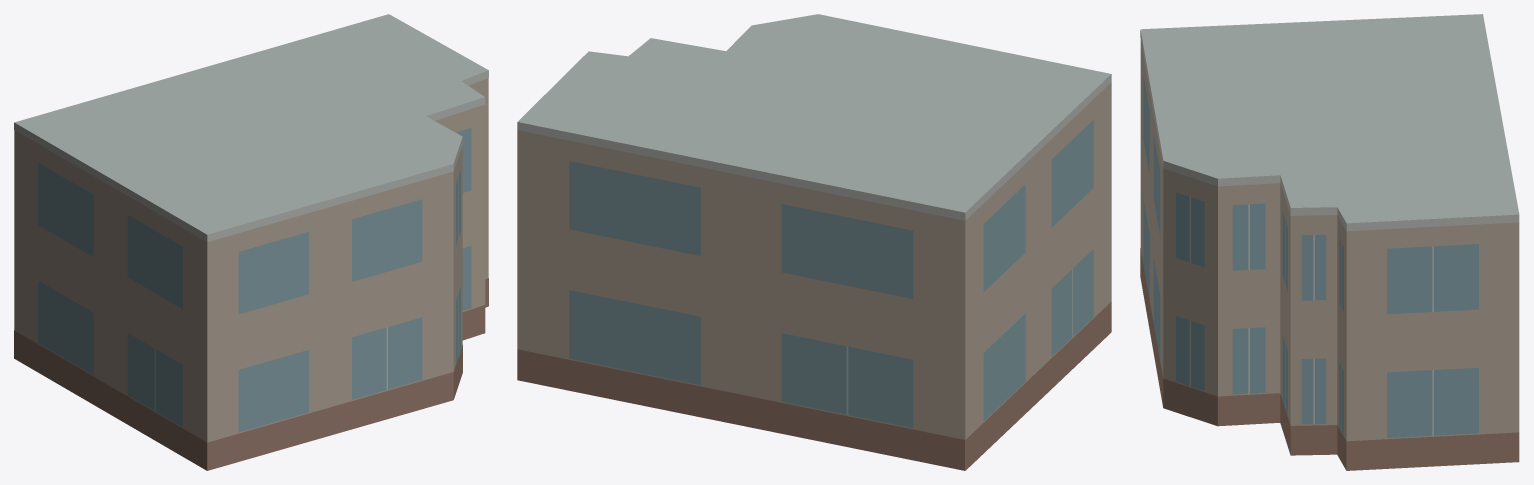
The model's file is survey-upis-32968486.glb.
The picture shows the model from 3 angles, left to right: view 1: azimuth 30°, elevation 25°; view 2: azimuth 150°, elevation 25°; view 3: azimuth 270°, elevation 25°; orthographic projection. The views are drawn at different scales.
Visible parts, largest first — view 1: survey-upis-32968486.tmp; view 2: survey-upis-32968486.tmp; view 3: survey-upis-32968486.tmp.
Part boxes in pixels (x1,y1,x2,y2): survey-upis-32968486.tmp: [14, 14, 488, 470]; survey-upis-32968486.tmp: [517, 14, 1111, 470]; survey-upis-32968486.tmp: [1140, 14, 1519, 470].
Size of the model in its own units: 13.99 by 7.7 by 10.7.
